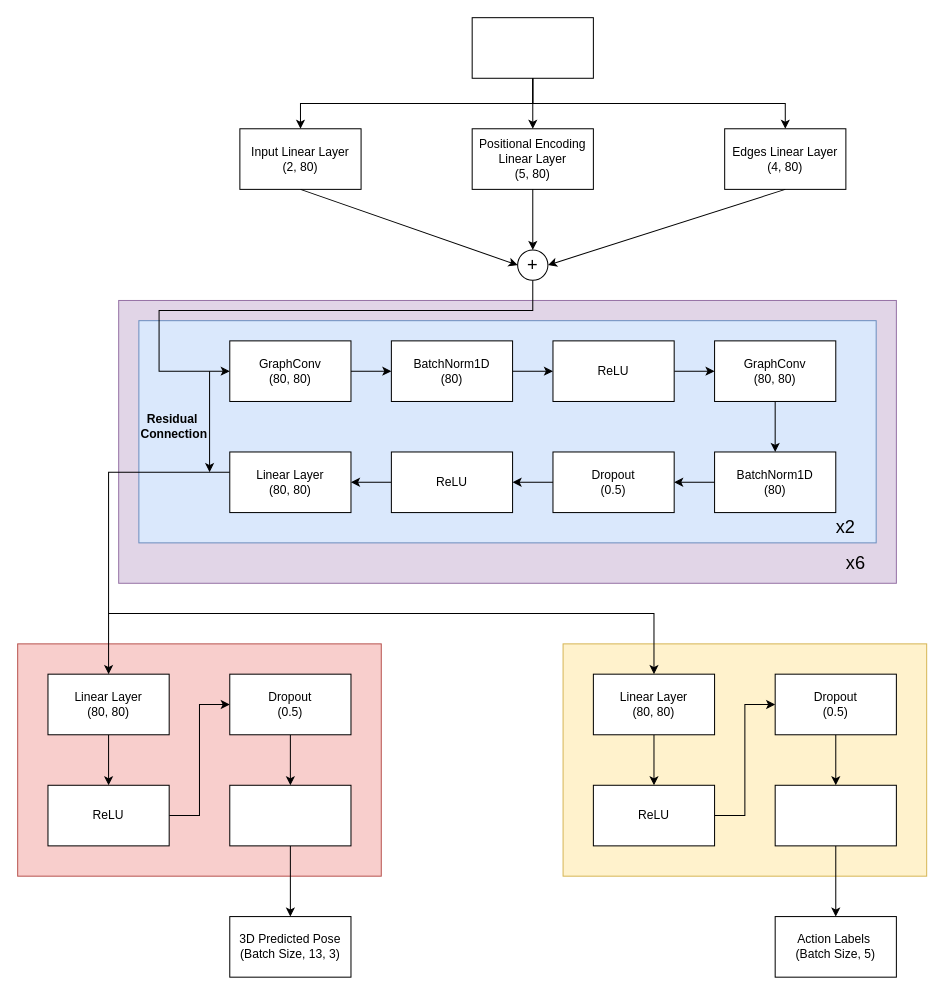
Some shapes in this 944 by 995 pixel diagram are drawn without their labels. Here are the shapes that lost their labels. From the top down, the centre of each, then its label:
(x=532, y=47): Graph Dataset
(x=290, y=815): Linear Layer (80, 3)
(x=835, y=815): Linear Layer (80, 5)
